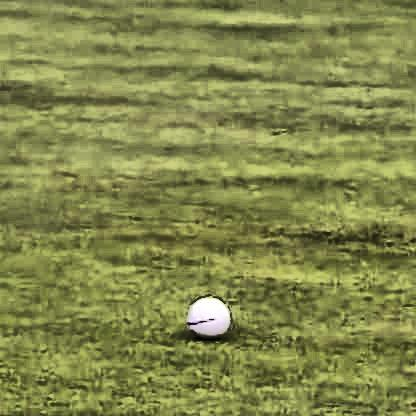golfball: (185, 294, 229, 336)
